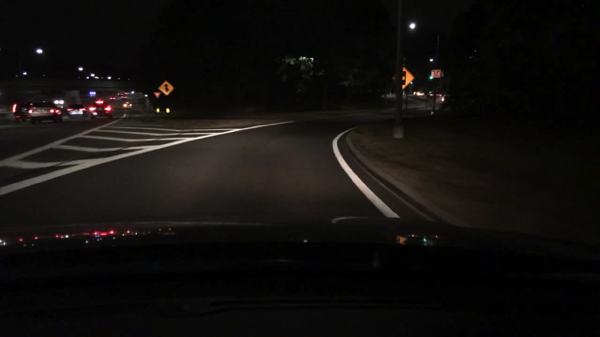car: (29, 101, 62, 125), (88, 100, 111, 118), (13, 102, 32, 120), (67, 104, 87, 118), (121, 100, 135, 109), (440, 94, 452, 104), (412, 91, 425, 98), (428, 92, 441, 99), (88, 90, 96, 98), (109, 96, 116, 101)
rider: (121, 96, 128, 99)
traffic sign: (392, 66, 414, 89), (159, 82, 173, 96), (432, 70, 443, 78), (154, 92, 162, 98), (156, 107, 161, 113), (167, 107, 170, 114)
